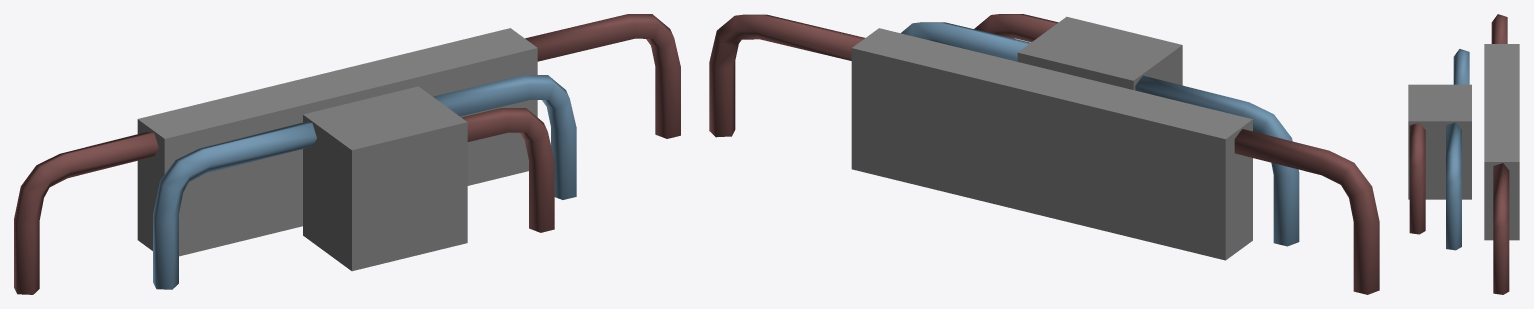
The model's file is floor.gltf.
3 renders of one model, left to right at view 1: azimuth 30°, elevation 25°; view 2: azimuth 150°, elevation 25°; view 3: azimuth 270°, elevation 25°, orthographic. The views are drawn at different scales.
Visible parts, largest first — view 1: Cube.016, Cube.015, Cylinder.005, Cylinder.004, Cylinder.003, Cylinder.006, Cylinder.007; view 2: Cube.016, Cube.015, Cylinder.004, Cylinder.003, Cylinder.005, Cylinder.006, Cylinder.007; view 3: Cube.016, Cube.015, Cylinder.003, Cylinder.006, Cylinder.007, Cylinder.005, Cylinder.004.
Part boxes in pixels (box(x1,y1,x2,y2)): Cube.016: box(137, 28, 537, 256); Cube.015: box(303, 86, 467, 271); Cylinder.005: box(153, 122, 316, 289); Cylinder.004: box(14, 132, 158, 294); Cylinder.003: box(525, 14, 680, 138); Cylinder.006: box(433, 75, 576, 199); Cylinder.007: box(461, 108, 554, 232); Cube.016: box(851, 28, 1252, 260); Cube.015: box(1017, 16, 1182, 90); Cylinder.004: box(1234, 129, 1379, 294); Cylinder.003: box(709, 14, 864, 137); Cylinder.005: box(1135, 75, 1299, 246); Cylinder.006: box(901, 22, 1030, 61); Cylinder.007: box(974, 14, 1058, 42); Cube.016: box(1484, 44, 1519, 240); Cube.015: box(1408, 84, 1471, 199); Cylinder.003: box(1493, 163, 1509, 294); Cylinder.006: box(1446, 122, 1461, 250); Cylinder.007: box(1409, 122, 1425, 234); Cylinder.005: box(1453, 49, 1469, 84); Cylinder.004: box(1491, 14, 1507, 43).
Size of the model in its own units: 11.49 by 2.14 by 2.57.
